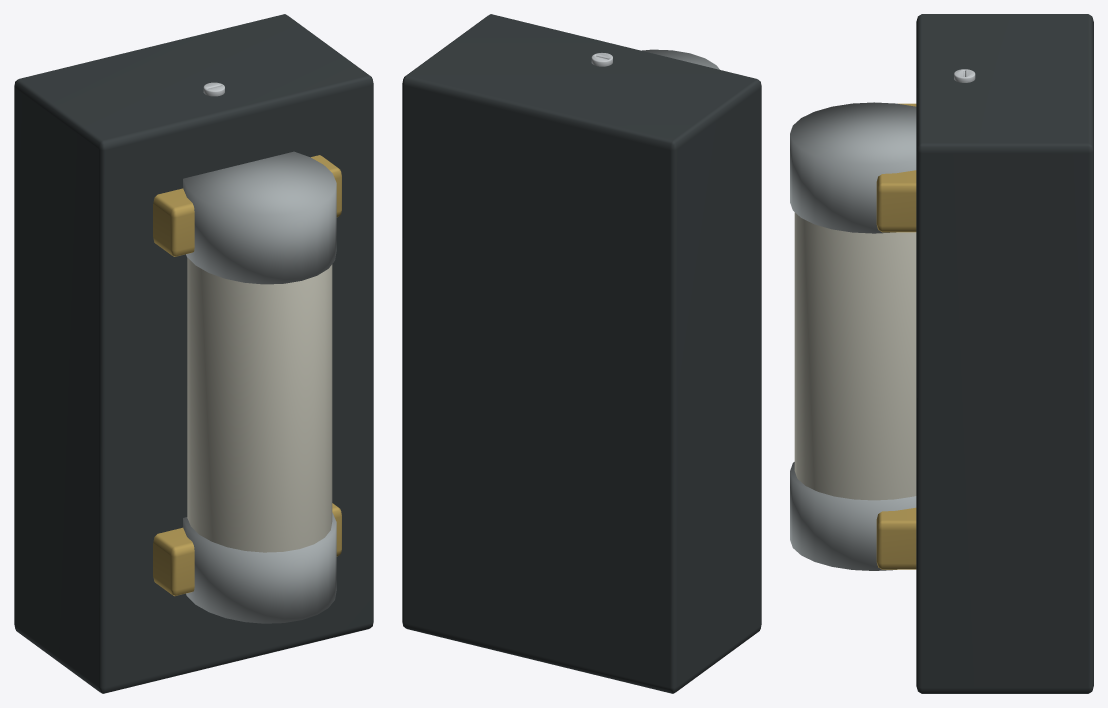
File: fuse_dc-fuse.glb
The picture shows the model from 3 angles, left to right: view 1: azimuth 30°, elevation 25°; view 2: azimuth 150°, elevation 25°; view 3: azimuth 270°, elevation 25°; orthographic projection.
Visible parts, largest first — view 1: node-4, node-5, node-3 · Original material.002, node-3 · Original material.003; view 2: node-4; view 3: node-4, node-5, node-3 · Original material.002, node-3 · Original material.003.
Boxes of the visible parts, left/top/right/bottom form: node-4: left=14, top=14, right=373, bottom=693; node-5: left=187, top=258, right=332, bottom=552; node-3 · Original material.002: left=183, top=151, right=336, bottom=623; node-3 · Original material.003: left=153, top=155, right=341, bottom=596; node-4: left=402, top=14, right=761, bottom=693; node-4: left=916, top=14, right=1093, bottom=693; node-5: left=794, top=212, right=916, bottom=500; node-3 · Original material.002: left=790, top=102, right=916, bottom=570; node-3 · Original material.003: left=876, top=103, right=916, bottom=569.
Size of the model in its own units: 0.539 by 1.05 by 0.52.
